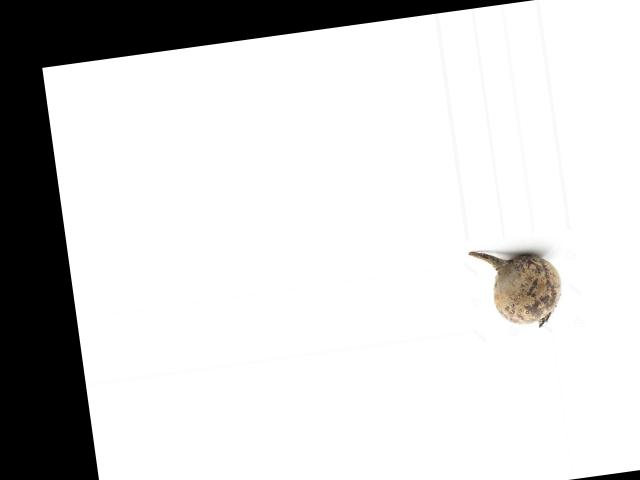beet: (469, 240, 567, 335)
